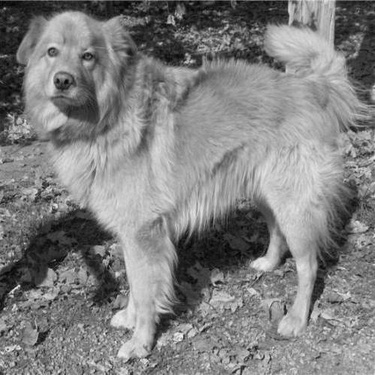dog: (1, 8, 368, 362)
